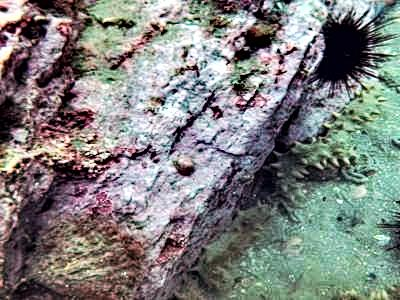urchin: (312, 5, 378, 88)
